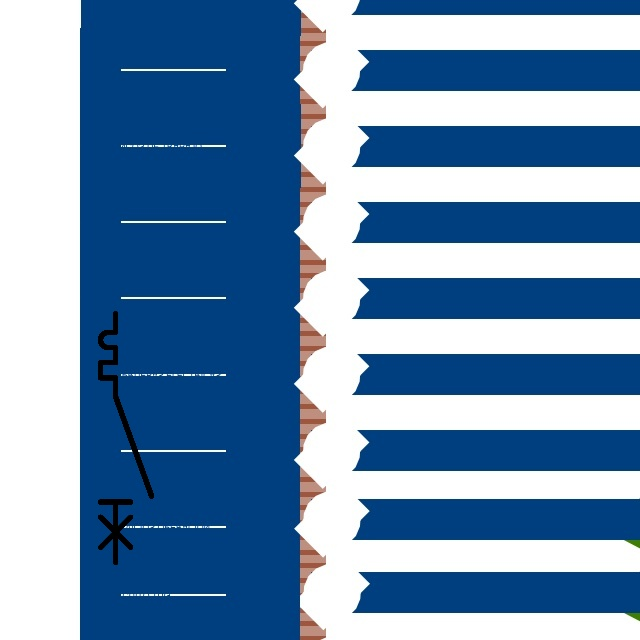interruptor_termomagnetico: (94, 307, 158, 569)
